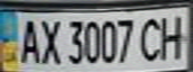0: (81, 17, 103, 65), (100, 16, 121, 64)
3: (63, 16, 84, 65)
7: (115, 16, 139, 64)
A: (15, 15, 42, 65)
C: (136, 14, 166, 62)
H: (157, 10, 190, 61)
X: (36, 15, 63, 65)
